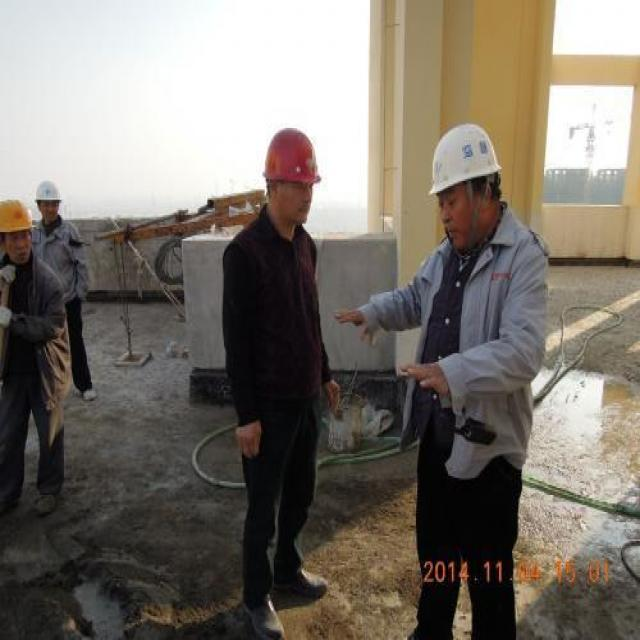hat: (427, 120, 507, 248), (263, 126, 322, 228), (1, 195, 34, 265), (33, 179, 62, 225)
